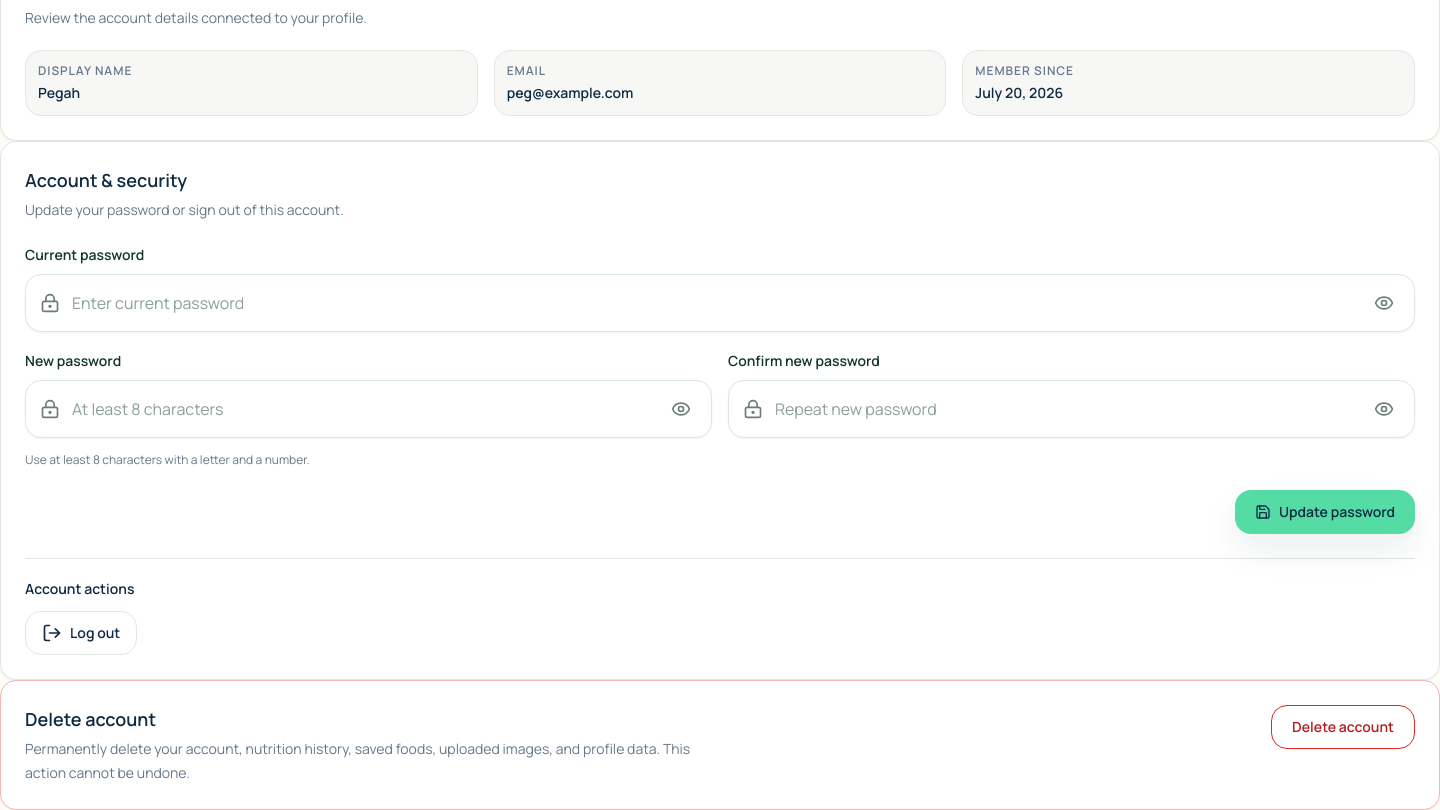
Test: ProfileContent delete account modal › opens an accessible confirmation modal from the danger zone
(page scrolled)
Click the button "Delete account": x=1343, y=727 [1271,705,1415,749]
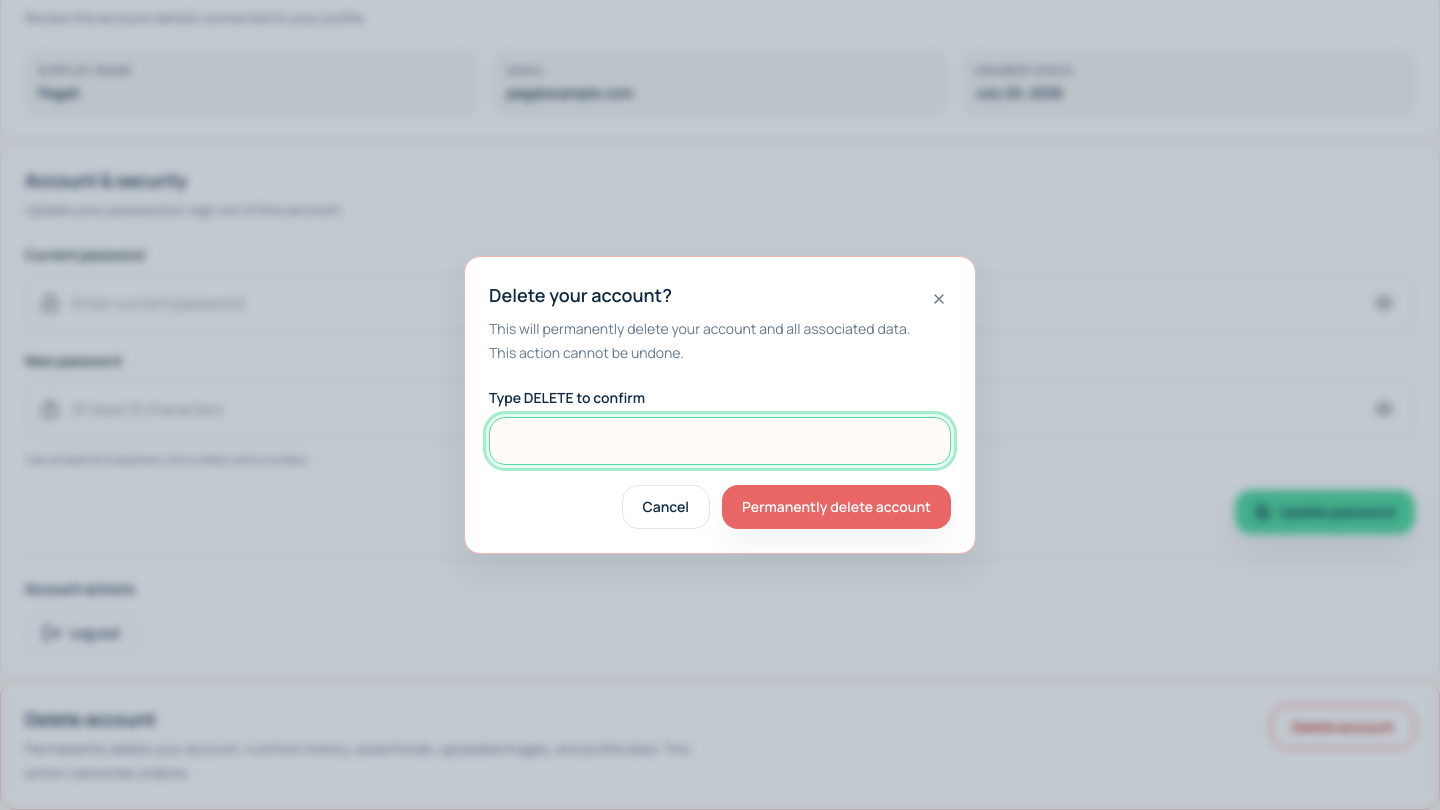
Expected: the text "This will permanently delete your account and all associated data. This action cannot be undone." is shown, [489,319,910,362]
